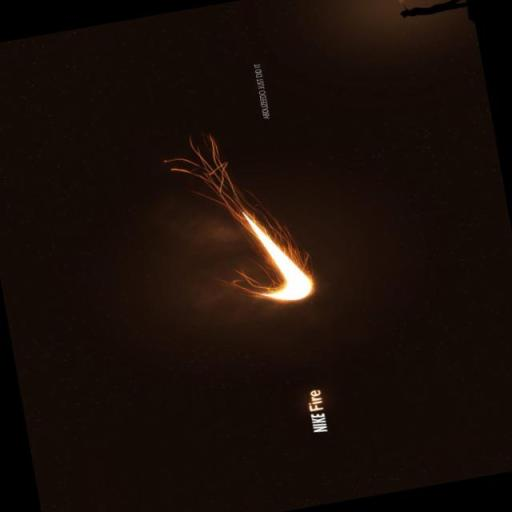Nike: (235, 194, 320, 308)
